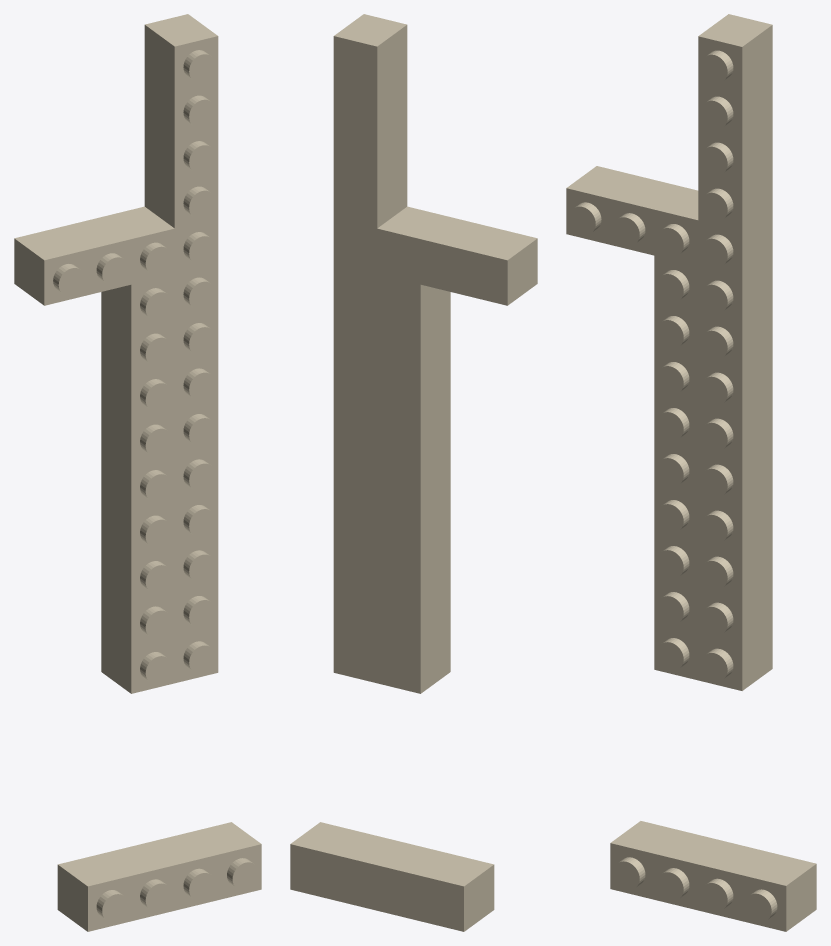
Rendered from current.glb.
3 views of the same model, side by side, from view 1: azimuth 30°, elevation 25°; view 2: azimuth 150°, elevation 25°; view 3: azimuth 330°, elevation 25° (orthographic).
Parts seen in each view (by area): view 1: world; view 2: world; view 3: world.
Boxes of the visible parts, x1=… form: world: x1=14, y1=14, x2=261, y2=931; world: x1=290, y1=14, x2=537, y2=931; world: x1=566, y1=14, x2=816, y2=931.
Bounding box in the file's own units: 40 × 152 × 11.4.
